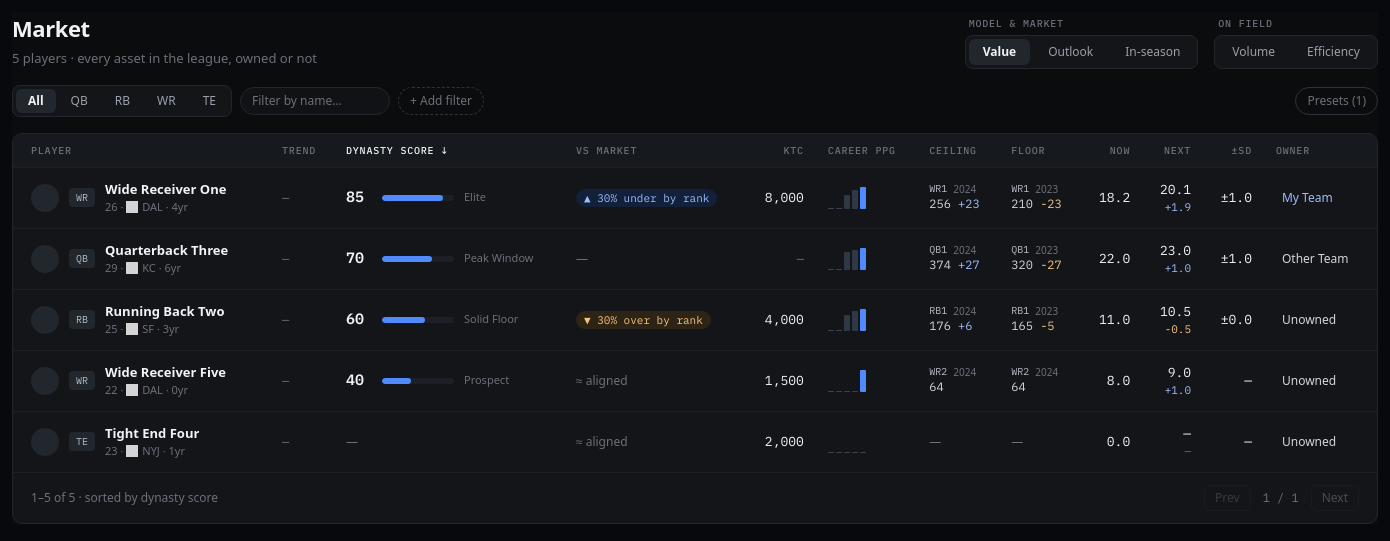
it: Market › presets (1b Slice vii) › a preset failing isRestorableFilters is dropped at mount, not offered for apply
This screenshot has width=1390, height=541.
Click the button "Presets (1)": click(1337, 100) [1296,86,1378,114]
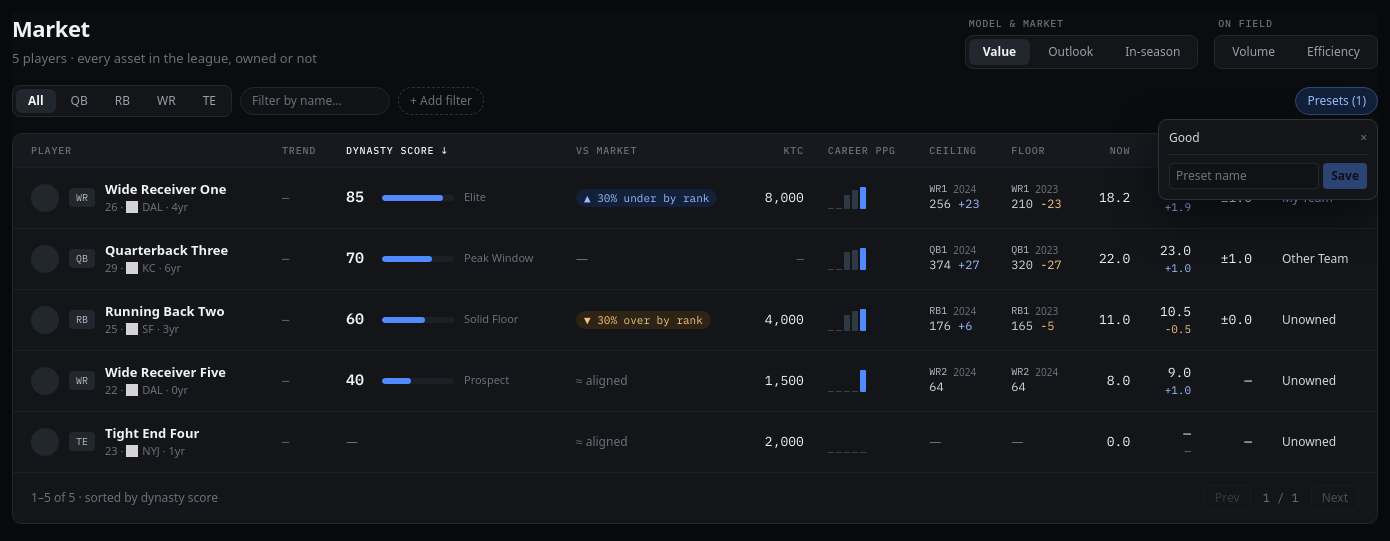
Result: the button "Good" is shown at [1169,130,1352,146]
